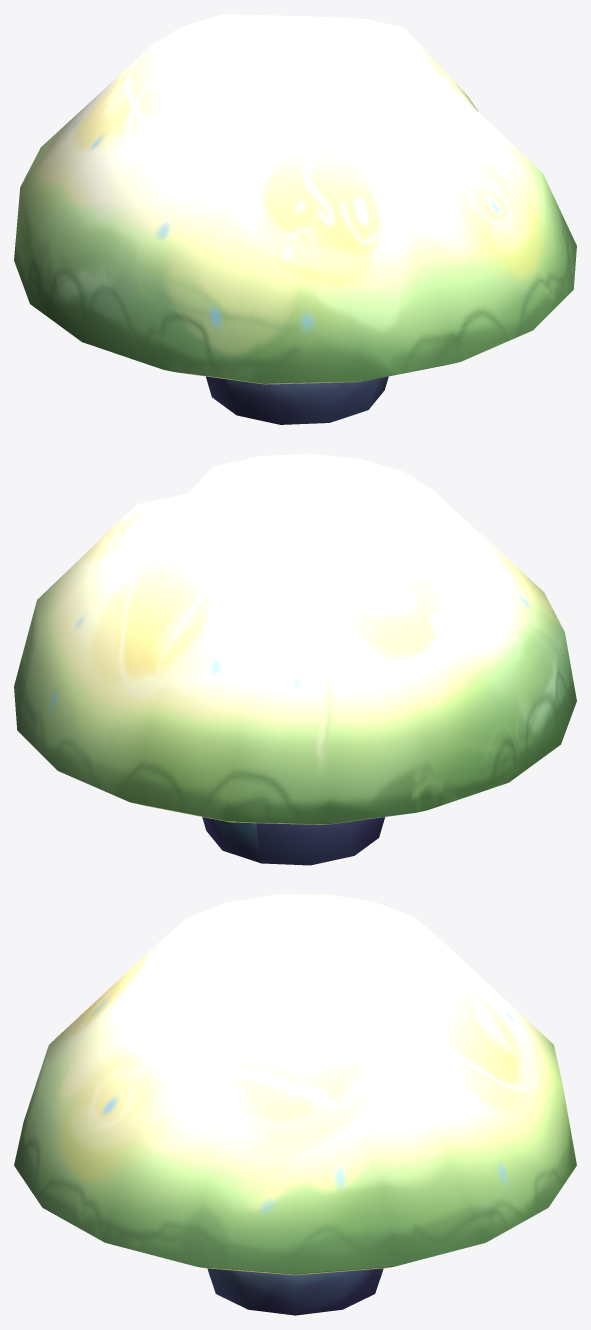
The model's file is M_Champi.FBX.
The picture shows the model from 3 angles, top to bottom: view 1: azimuth 30°, elevation 25°; view 2: azimuth 150°, elevation 25°; view 3: azimuth 270°, elevation 25°; orthographic projection.
Visible parts, largest first — view 1: Cylinder001; view 2: Cylinder001; view 3: Cylinder001.
Part boxes in pixels (x1,y1,x2,y2): Cylinder001: (14, 14, 576, 424); Cylinder001: (14, 453, 576, 865); Cylinder001: (14, 894, 576, 1315).
Size of the model in its own units: 132 by 91.3 by 132.
